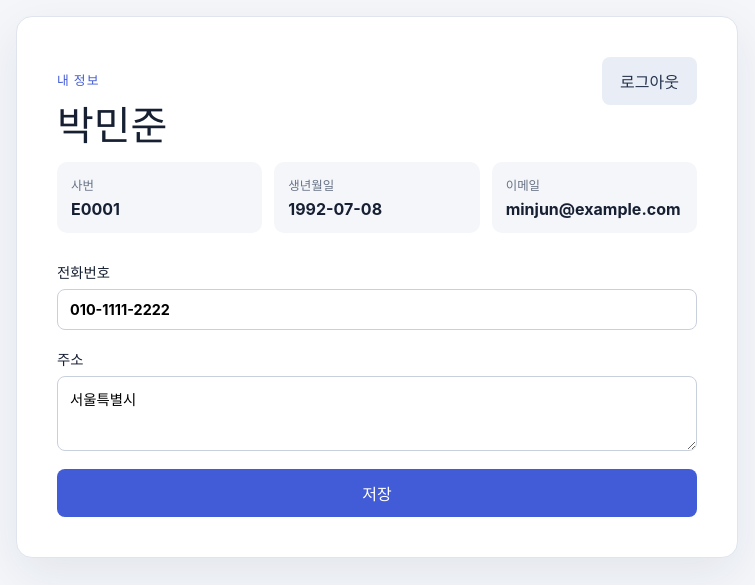
Test: 로그인한 직원은 로그아웃할 수 있다
This screenshot has width=755, height=585.
Step 1. Click the button "로그아웃" → (650, 81), box x1=602 y1=57 x2=697 y2=105
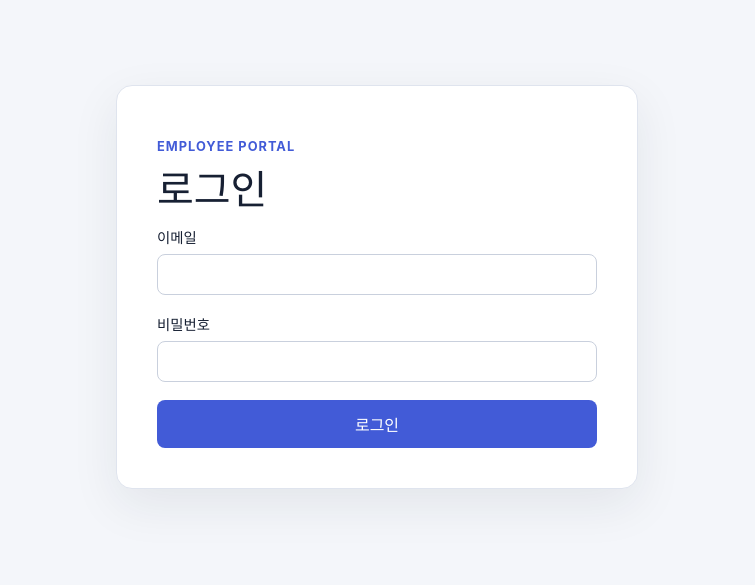
Check: the heading "로그인" is shown, box x1=157 y1=165 x2=267 y2=214
